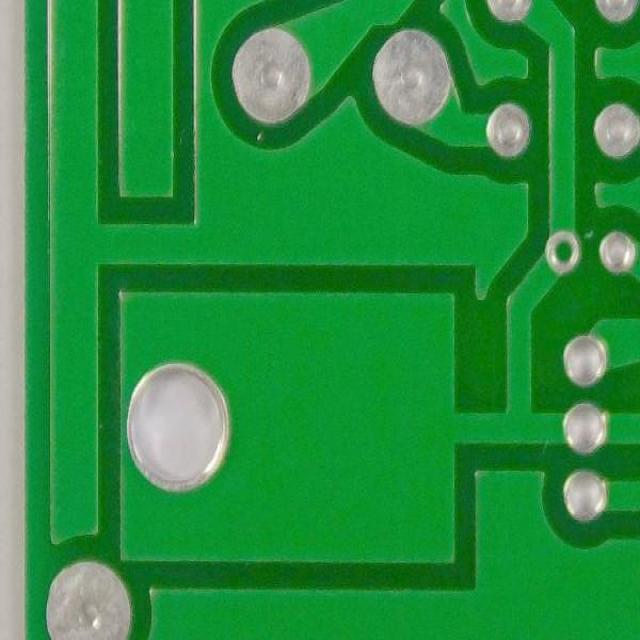missing hole: (541, 227, 588, 281)
